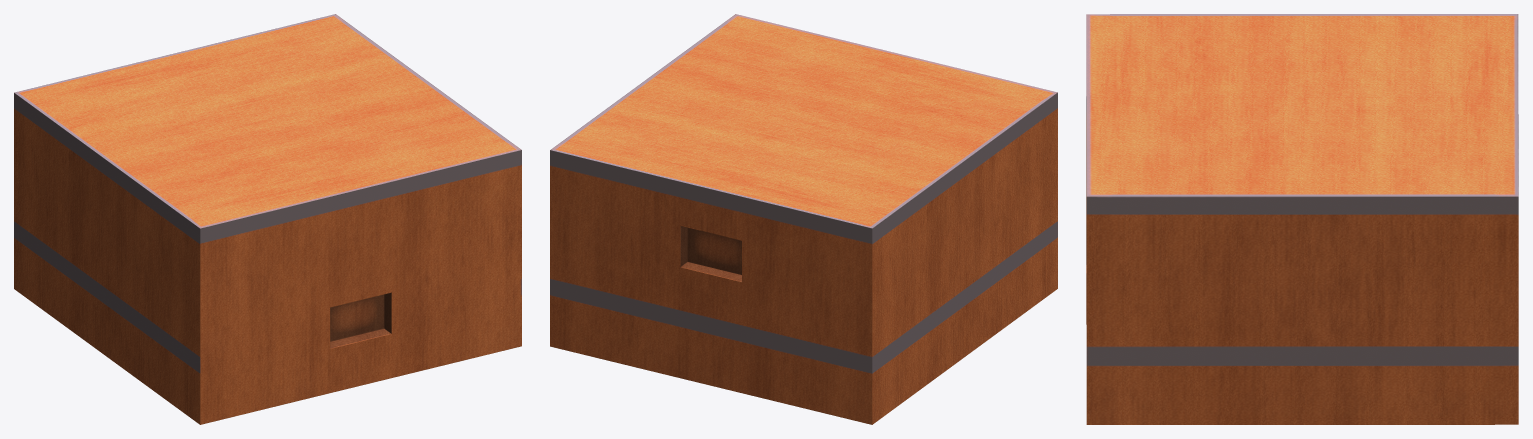
Rendered from NNJ0810011.fbx.
The picture shows the model from 3 angles, left to right: view 1: azimuth 30°, elevation 25°; view 2: azimuth 150°, elevation 25°; view 3: azimuth 270°, elevation 25°; orthographic projection. The views are drawn at different scales.
Parts seen in each view (by area): view 1: smNNJ0810011; view 2: smNNJ0810011; view 3: smNNJ0810011.
Part boxes in pixels (x1,y1,x2,y2): smNNJ0810011: (14,14,521,424); smNNJ0810011: (550,14,1057,424); smNNJ0810011: (1086,14,1518,424).
Bounding box in the file's own units: 76.24 × 44.41 × 76.24.
1 material, 1 textured.
